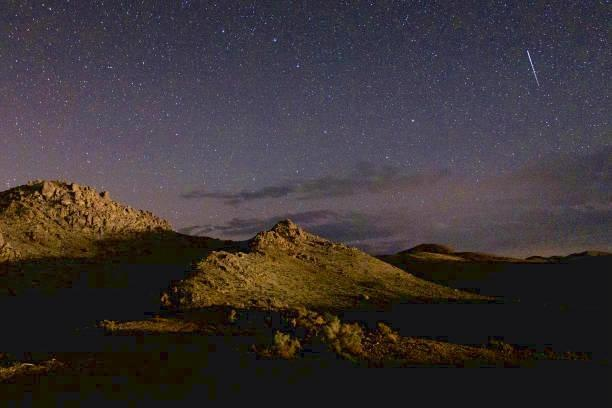meteorite: (521, 49, 549, 92)
